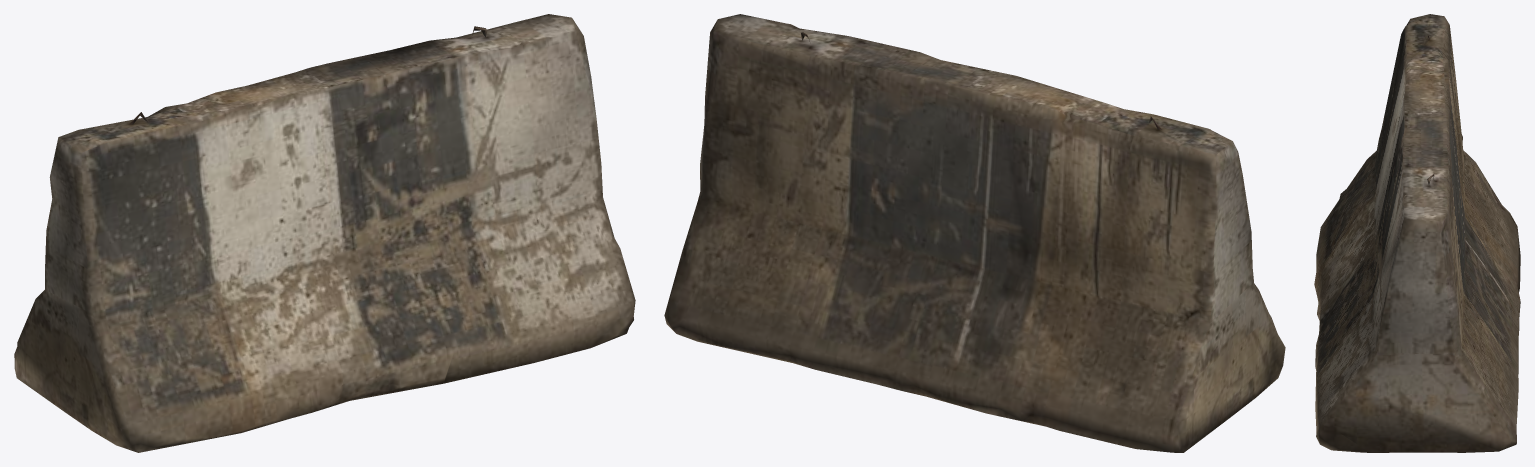
The model's file is concrete_road_barrier.glb.
3 renders of one model, left to right at view 1: azimuth 30°, elevation 25°; view 2: azimuth 150°, elevation 25°; view 3: azimuth 270°, elevation 25°, orthographic. The views are drawn at different scales.
Parts seen in each view (by area): view 1: concrete_road_barrier; view 2: concrete_road_barrier; view 3: concrete_road_barrier.
Part boxes in pixels (<box>): concrete_road_barrier: <box>14,14,635,452</box>; concrete_road_barrier: <box>664,14,1285,452</box>; concrete_road_barrier: <box>1314,14,1520,452</box>.
Bounding box in the file's own units: 1.54 × 0.8276 × 0.6332.
Materials: 1 (1 with a texture image).
